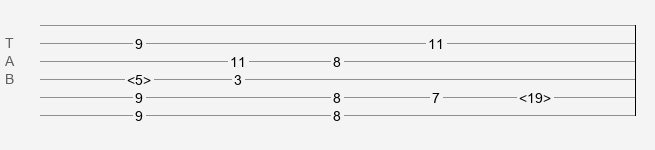11: (230, 54, 246, 64), (428, 36, 444, 46)
3: (234, 72, 242, 82)
7: (432, 90, 440, 100)
8: (333, 90, 341, 100), (333, 54, 341, 64), (333, 108, 341, 118)
9: (135, 90, 143, 100), (135, 36, 143, 46), (135, 108, 143, 118)
harmonic: (519, 90, 551, 100), (127, 72, 151, 82)
